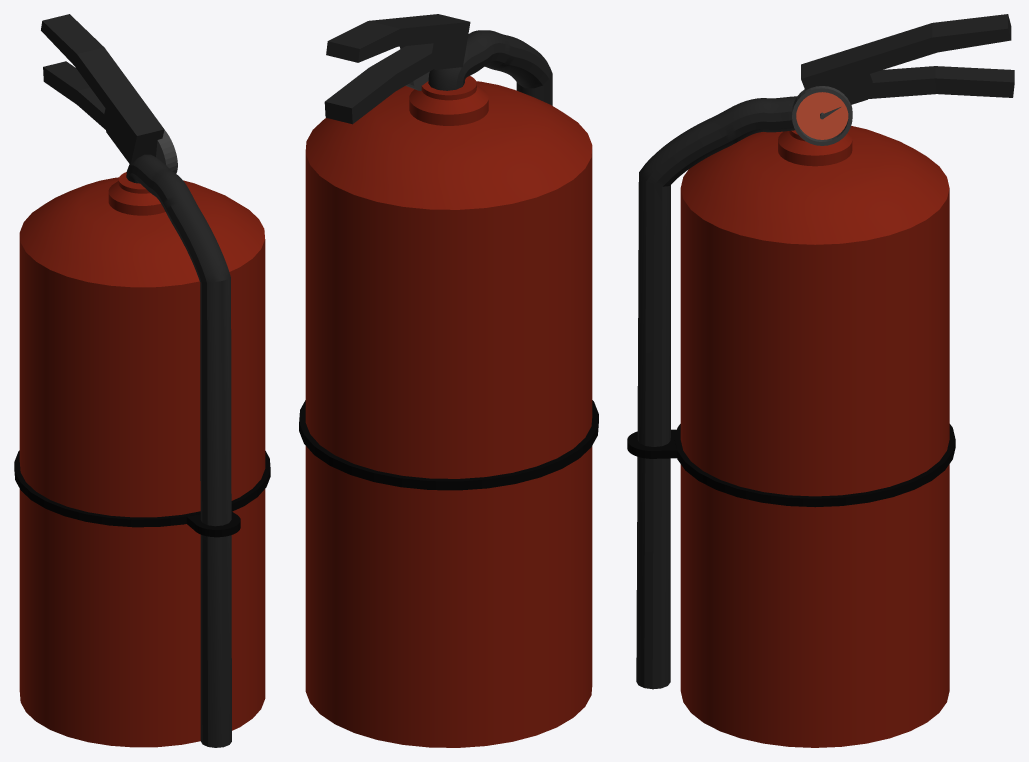
Rendered from Extintor_FelipeK_46871490.fbx.
The picture shows the model from 3 angles, left to right: view 1: azimuth 30°, elevation 25°; view 2: azimuth 150°, elevation 25°; view 3: azimuth 270°, elevation 25°; orthographic projection. The views are drawn at different scales.
Parts seen in each view (by area): view 1: Cylinder; view 2: Cylinder; view 3: Cylinder.
Boxes of the visible parts, bbox=[...] form: Cylinder: bbox=[14, 14, 270, 747]; Cylinder: bbox=[299, 14, 598, 747]; Cylinder: bbox=[627, 14, 1014, 747].
Bounding box in the file's own units: 16.19 × 42.66 × 22.35.
2 materials, 1 textured.
